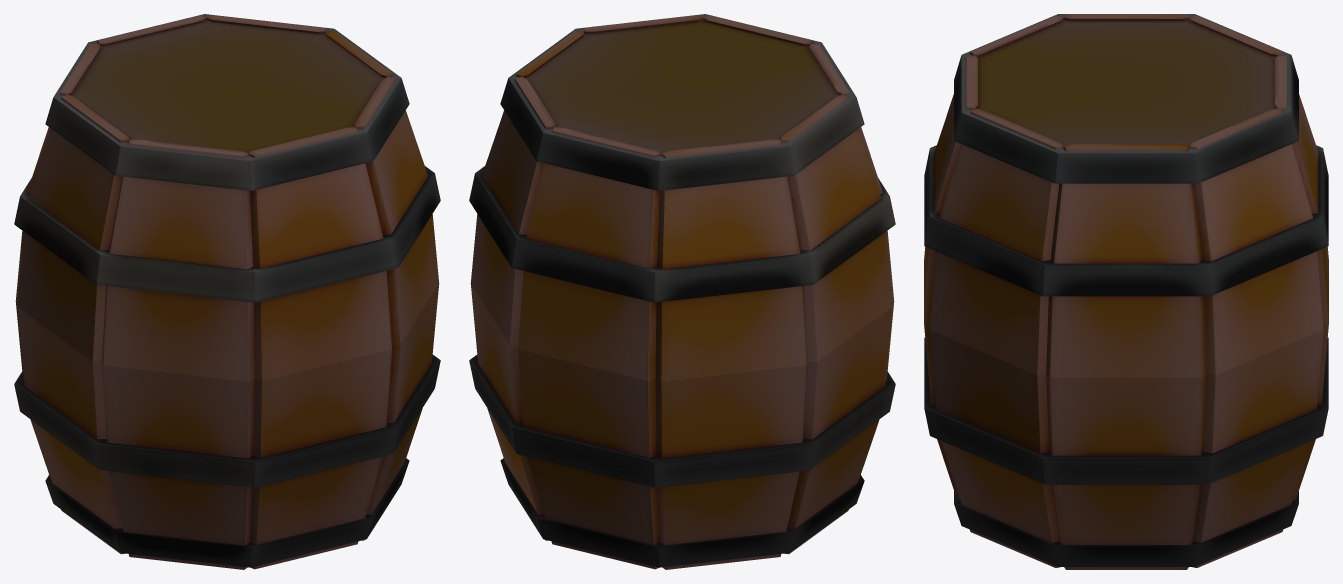
The model's file is barrel.fbx.
3 renders of one model, left to right at view 1: azimuth 30°, elevation 25°; view 2: azimuth 150°, elevation 25°; view 3: azimuth 270°, elevation 25°, orthographic.
Visible parts, largest first — view 1: Cube; view 2: Cube; view 3: Cube.
Boxes of the visible parts, bbox=[...] form: Cube: bbox=[14, 14, 440, 569]; Cube: bbox=[469, 14, 895, 569]; Cube: bbox=[924, 14, 1328, 569].
Bounding box in the file's own units: 199 × 228 × 199.
